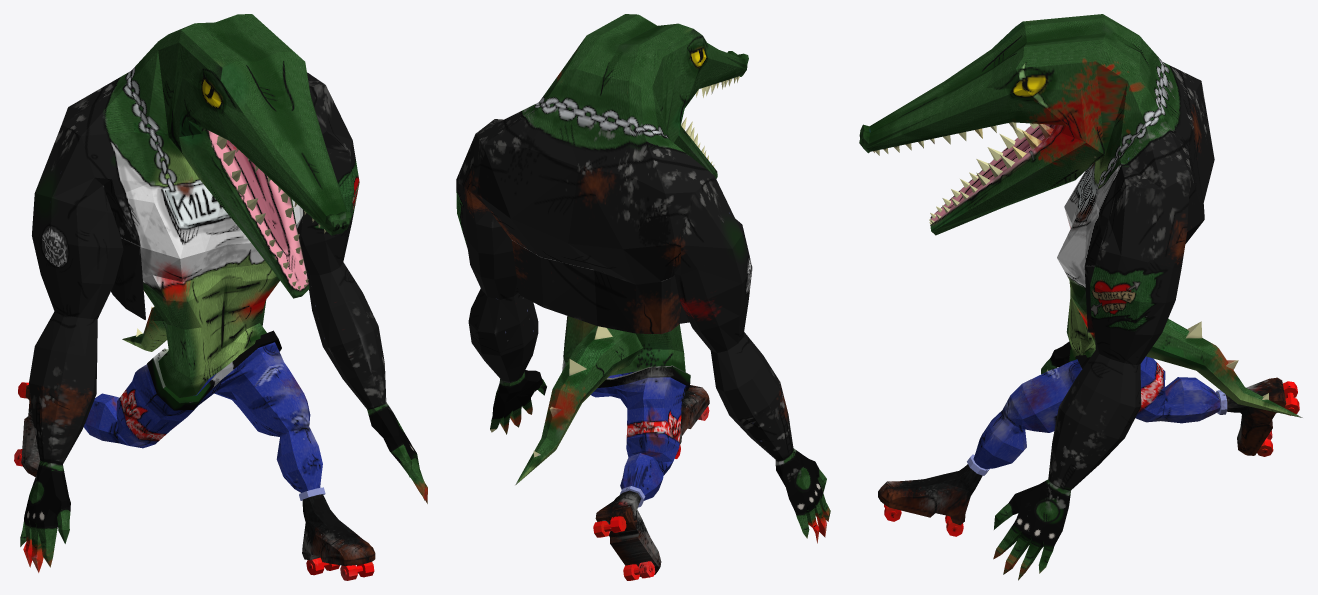
Rendered from cocodrilaBonesSelect_000000.obj.
3 renders of one model, left to right at view 1: azimuth 30°, elevation 25°; view 2: azimuth 150°, elevation 25°; view 3: azimuth 270°, elevation 25°, orthographic. The views are drawn at different scales.
Parts seen in each view (by area): view 1: Crocodile.002_Cylinder.002; view 2: Crocodile.002_Cylinder.002; view 3: Crocodile.002_Cylinder.002.
Part boxes in pixels (x1,y1,x2,y2): Crocodile.002_Cylinder.002: [14, 14, 427, 580]; Crocodile.002_Cylinder.002: [456, 14, 830, 580]; Crocodile.002_Cylinder.002: [859, 14, 1302, 580].
Bounding box in the file's own units: 4.5 × 5.87 × 4.84.
